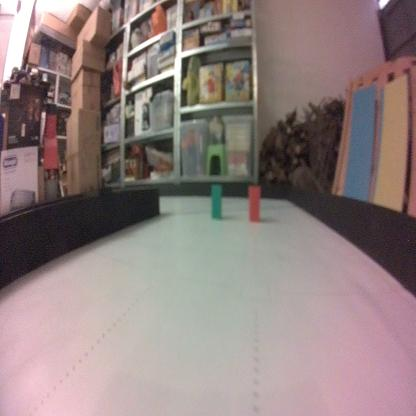green: (210, 180, 223, 220)
red: (248, 184, 260, 226)
